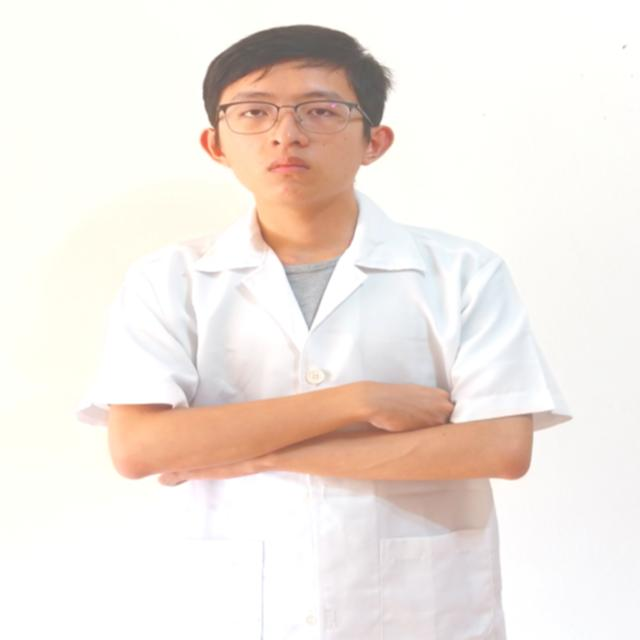person_with_labcoat: (77, 25, 571, 640)
